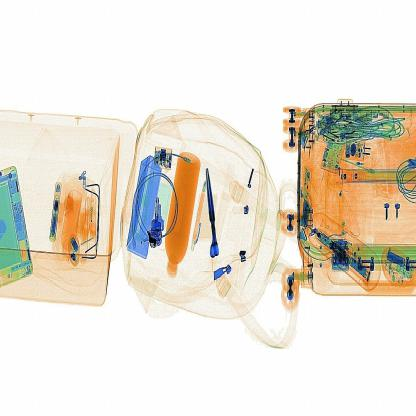gun: (196, 156, 230, 264)
